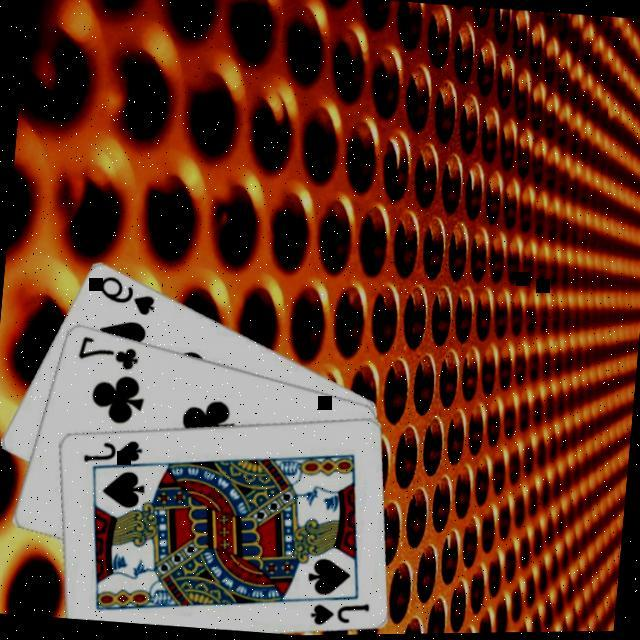7C: (70, 332, 140, 376)
9S: (91, 272, 158, 320)
JS: (303, 596, 369, 632), (78, 433, 142, 469)
